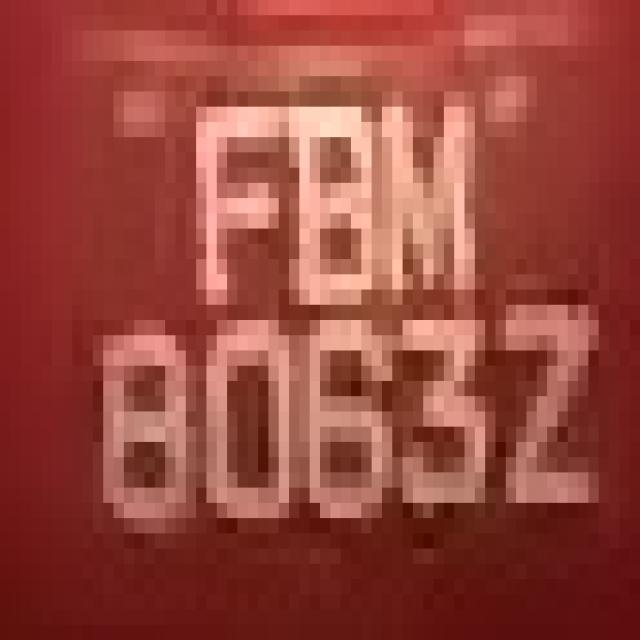0: (196, 290, 279, 579)
3: (392, 290, 485, 534)
6: (289, 259, 403, 579)
8: (83, 290, 196, 548)
B: (289, 76, 382, 305)
F: (176, 61, 300, 320)
M: (361, 61, 506, 320)
Z: (475, 274, 609, 564)
